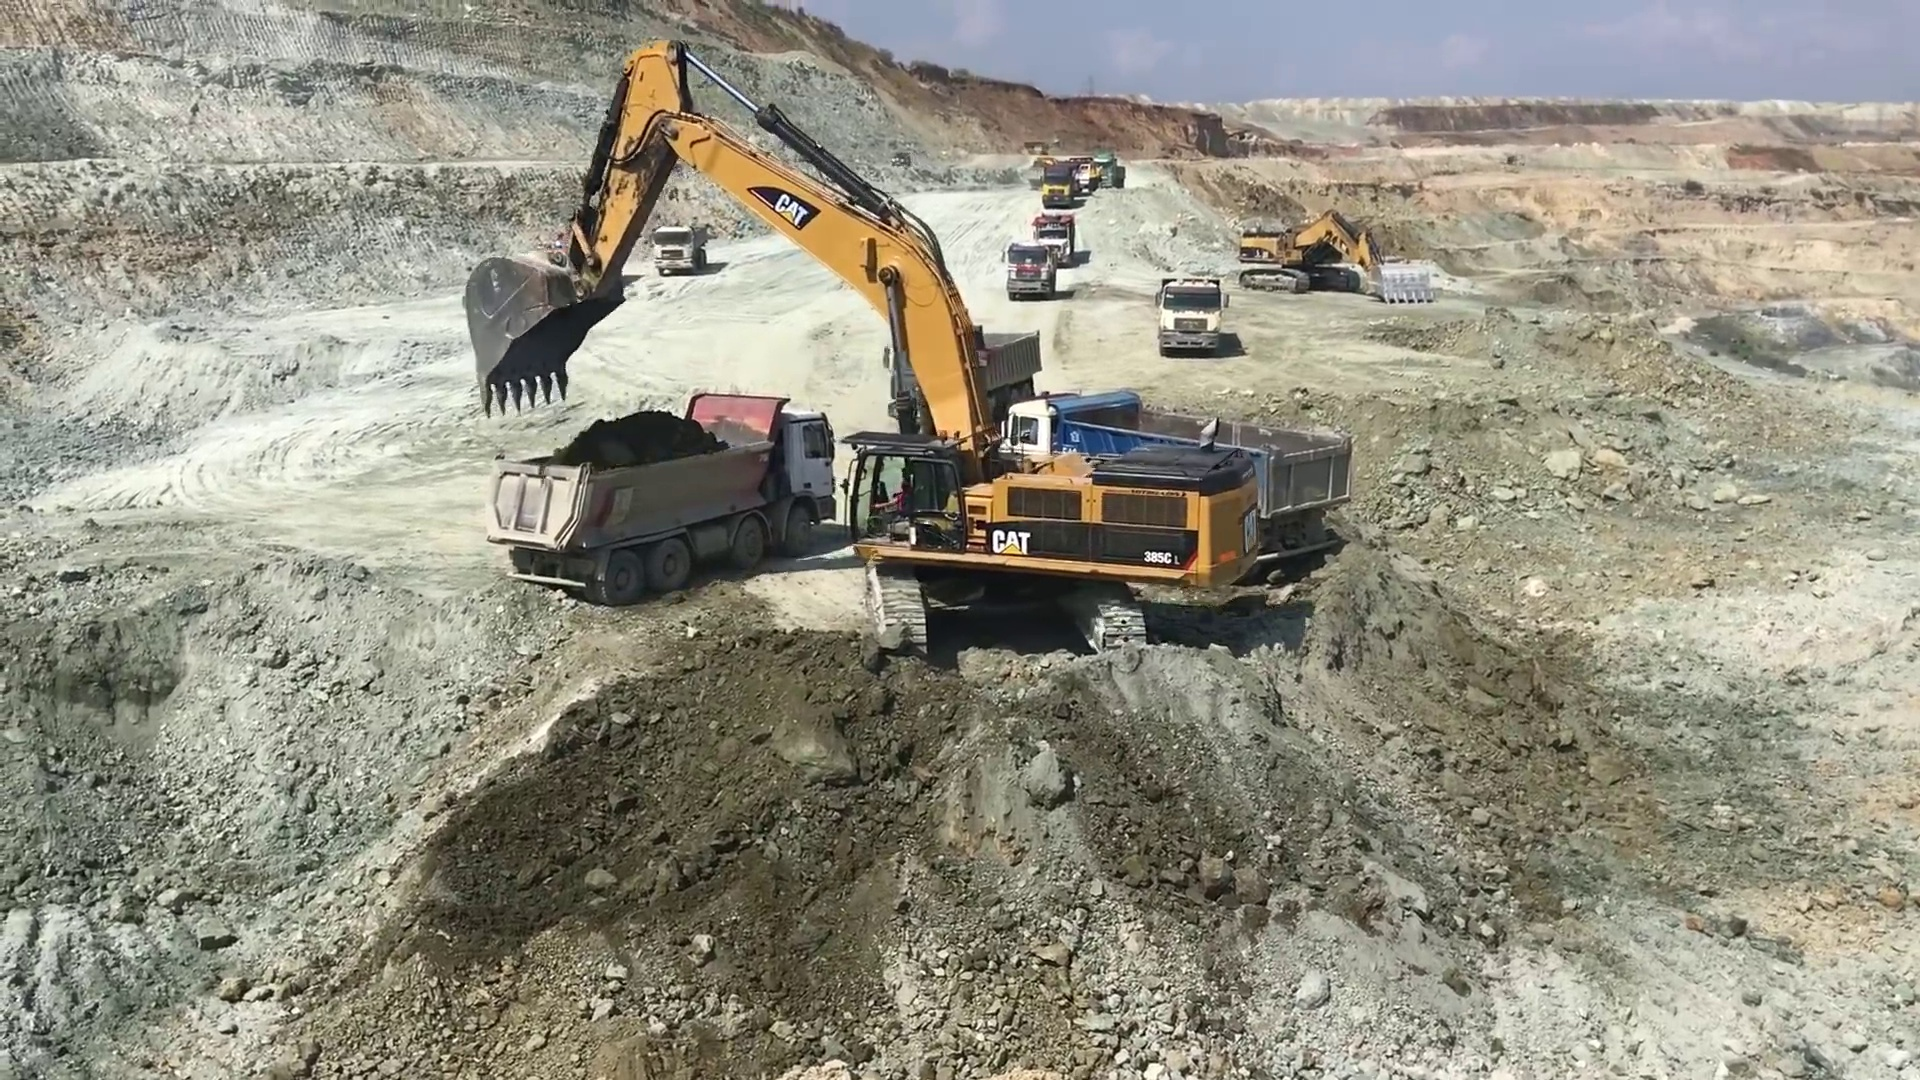excavator: (462, 42, 1265, 654), (1240, 208, 1437, 306)
truck: (480, 396, 843, 607), (998, 378, 1356, 555), (1149, 273, 1226, 356), (647, 223, 716, 276), (1001, 243, 1058, 301), (1029, 214, 1083, 266), (1035, 161, 1079, 204)
